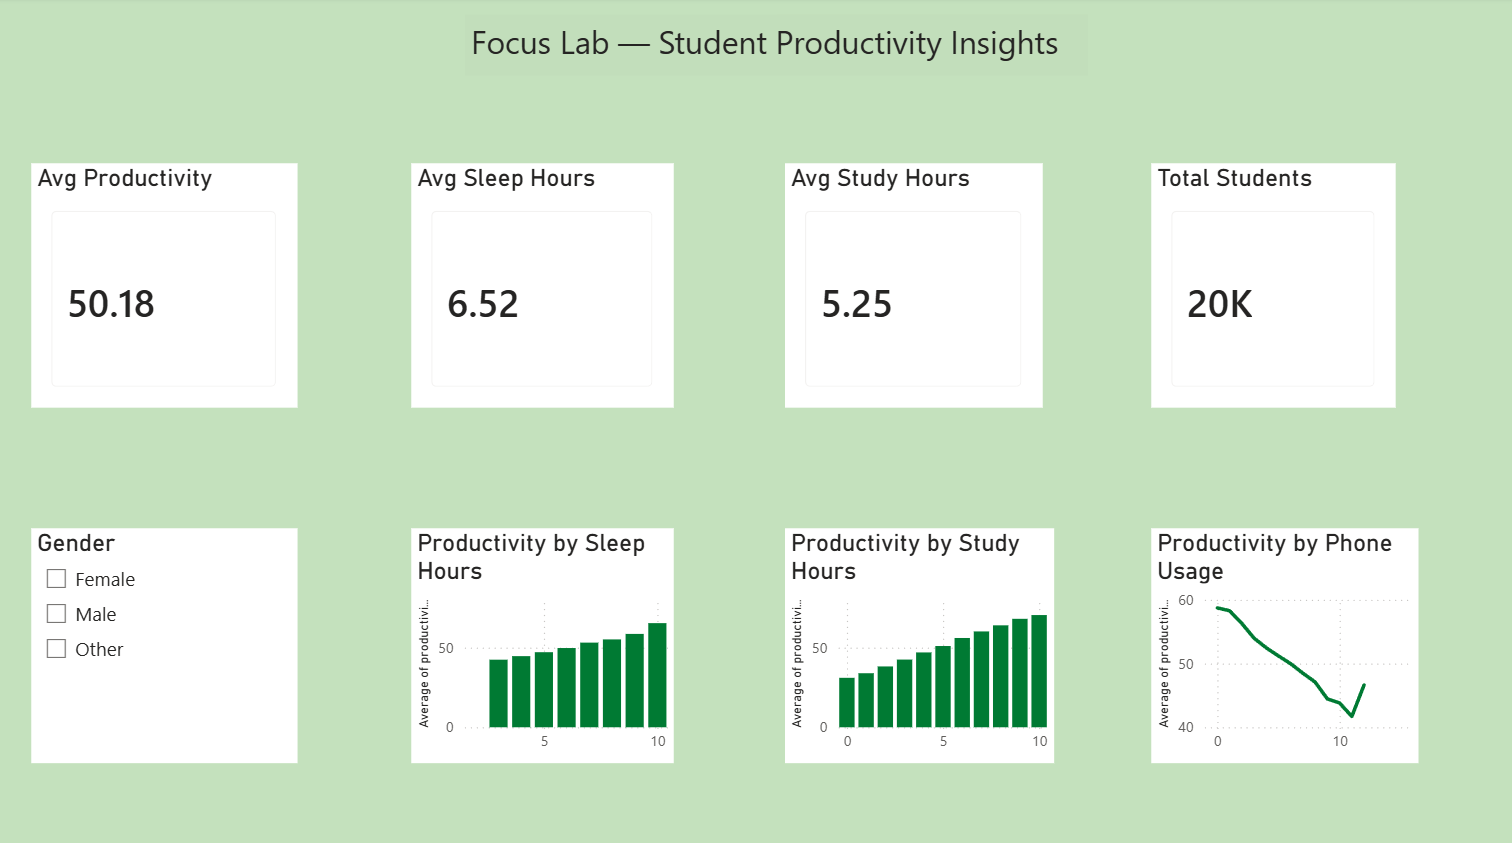

The dashboard page shown, as its layout file describes it:
{"tool":"powerbi","page":{"name":"Page 1","canvas":[1280,720],"ordinal":0},"visuals":[{"type":"cardVisual","title":"Total Students","fields":{"Data":["CountNonNull(student_productivity_distraction_dataset_20000.student_id)"]},"box":[972.9,140,205.8,205.8],"z":0},{"type":"cardVisual","title":"Avg Productivity","fields":{"Data":["Avg(student_productivity_distraction_dataset_20000.productivity_score)"]},"box":[30.2,140,223.7,205.8],"z":1000},{"type":"cardVisual","title":"Avg Sleep Hours","fields":{"Data":["Avg(student_productivity_distraction_dataset_20000.sleep_hours)"]},"box":[349.9,140,220.9,205.8],"z":2000},{"type":"cardVisual","title":"Avg Study Hours","fields":{"Data":["Avg(student_productivity_distraction_dataset_20000.study_hours_per_day)"]},"box":[664.2,140,216.8,205.8],"z":3000},{"type":"clusteredColumnChart","title":"Productivity by Sleep Hours","fields":{"Y":["Avg(student_productivity_distraction_dataset_20000.productivity_score)"],"Category":["student_productivity_distraction_dataset_20000.sleep_hours (bins)"]},"box":[349.9,447.3,220.9,197.6],"z":4000},{"type":"slicer","title":"Gender","fields":{"Values":["student_productivity_distraction_dataset_20000.gender"]},"box":[30.2,447.3,223.7,197.6],"z":5000},{"type":"textbox","box":[395.3,14.7,523.6,51.5],"z":6000},{"type":"clusteredColumnChart","title":"Productivity by Study Hours","fields":{"Y":["Avg(student_productivity_distraction_dataset_20000.productivity_score)"],"Category":["student_productivity_distraction_dataset_20000.study_hours_per_day (bins)"]},"box":[664.2,447.3,226.4,197.6],"z":7000},{"type":"lineChart","title":"Productivity by Phone Usage","fields":{"Y":["Avg(student_productivity_distraction_dataset_20000.productivity_score)"],"Category":["student_productivity_distraction_dataset_20000.phone_usage_hours (bins)"]},"box":[972.9,447.3,225,197.6],"z":8000}]}

Visuals, with their boxes in screenshot pixels (x1, y1, x2, y2), scaled from the page's 1280x720 canvas onto the 1512x843 screenshot:
"Total Students" cardVisual: bbox=(1149, 164, 1392, 405)
"Avg Productivity" cardVisual: bbox=(36, 164, 300, 405)
"Avg Sleep Hours" cardVisual: bbox=(413, 164, 674, 405)
"Avg Study Hours" cardVisual: bbox=(785, 164, 1041, 405)
"Productivity by Sleep Hours" clusteredColumnChart: bbox=(413, 524, 674, 755)
"Gender" slicer: bbox=(36, 524, 300, 755)
textbox: bbox=(467, 17, 1085, 78)
"Productivity by Study Hours" clusteredColumnChart: bbox=(785, 524, 1052, 755)
"Productivity by Phone Usage" lineChart: bbox=(1149, 524, 1415, 755)
